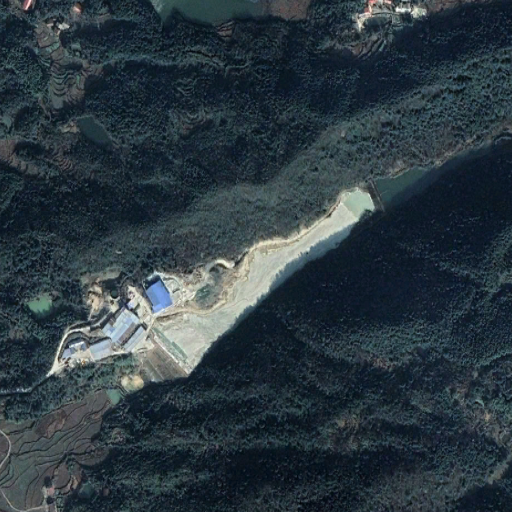tp: (136, 181, 379, 388)
